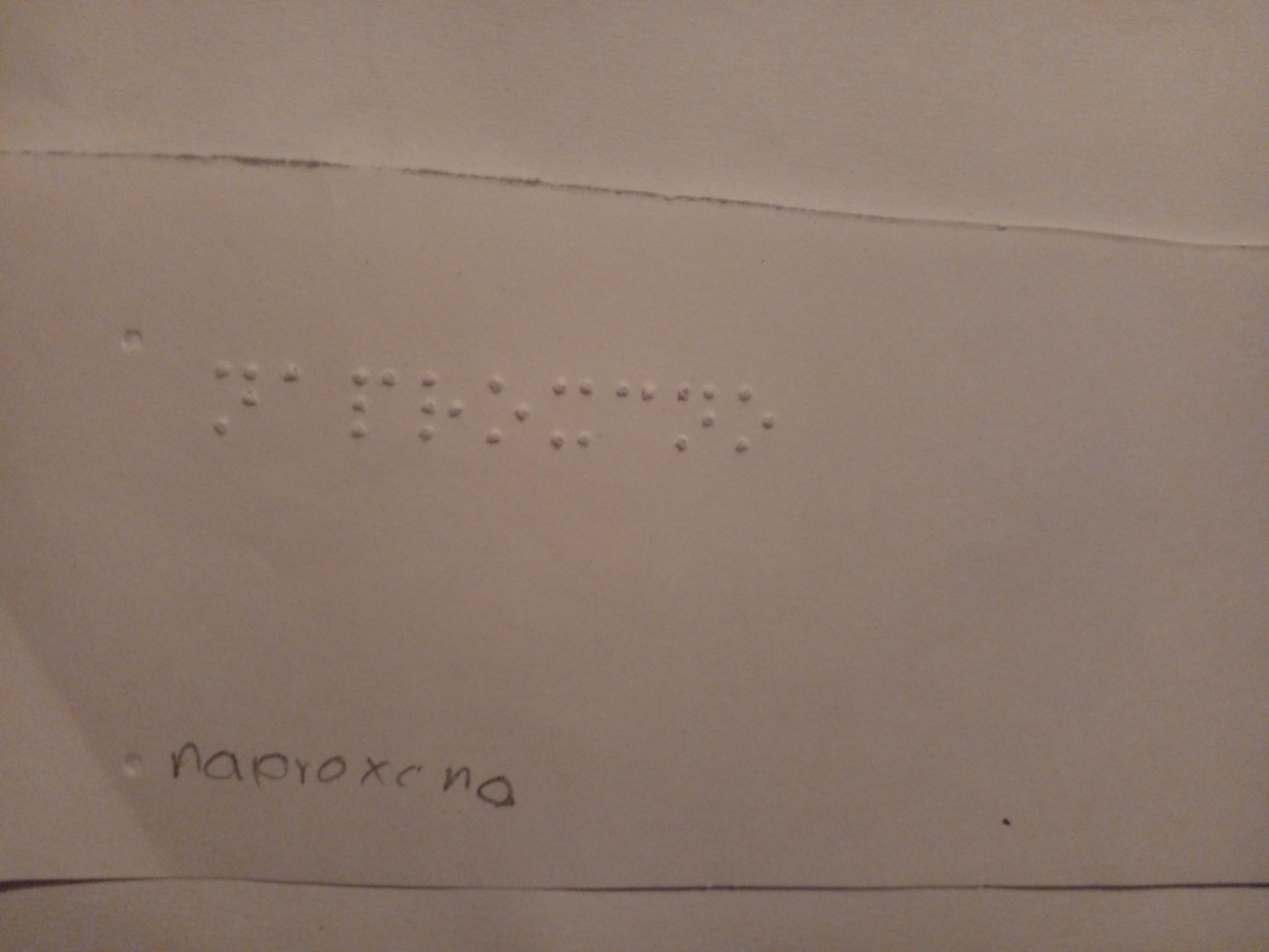a: (271, 349, 307, 434)
c: (609, 370, 663, 449)
n: (671, 366, 728, 465), (211, 350, 266, 442)
o: (730, 370, 782, 473), (480, 366, 530, 462)
p: (347, 358, 409, 448)
r: (418, 361, 466, 462)
x: (547, 367, 599, 460)
